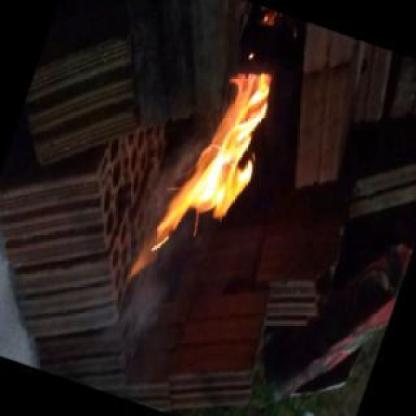Fire: (126, 66, 272, 278)
